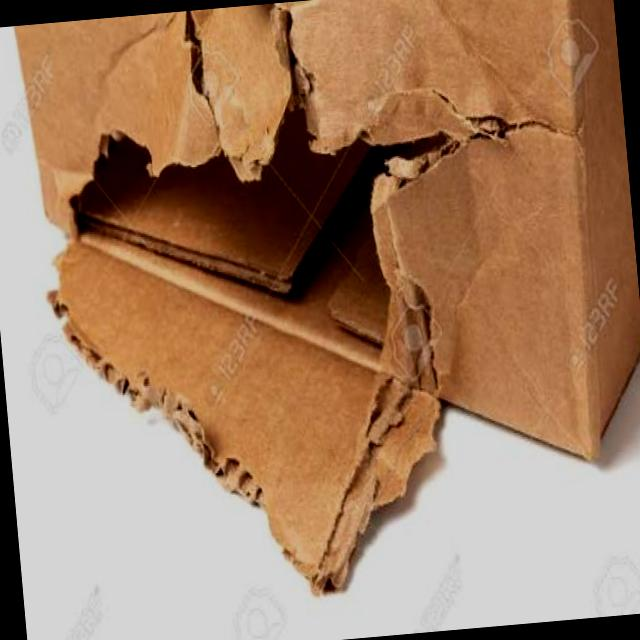package_damage: (10, 0, 599, 515)
